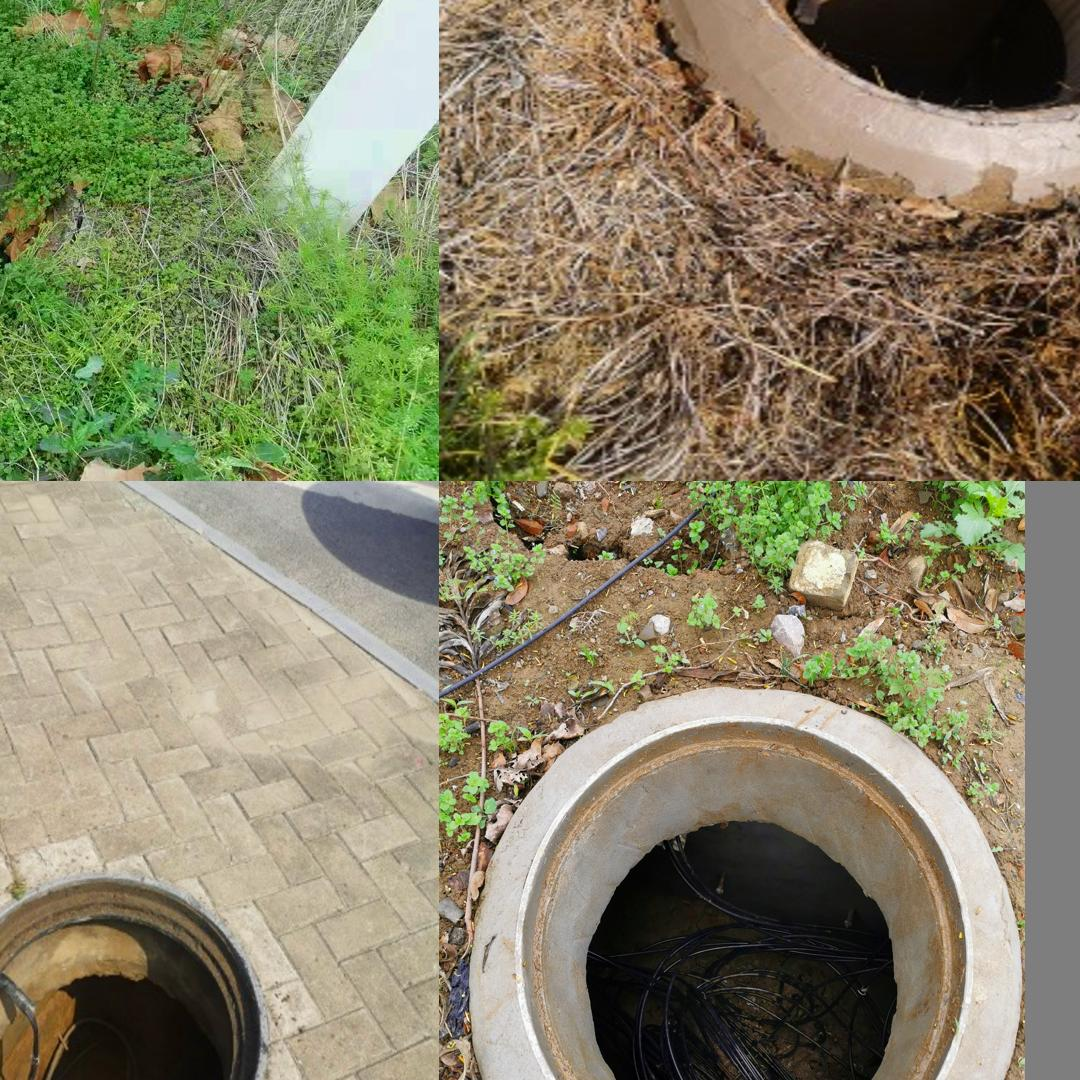lose: (463, 684, 1009, 1080), (628, 0, 1080, 219), (0, 871, 269, 1080), (0, 100, 89, 322)
